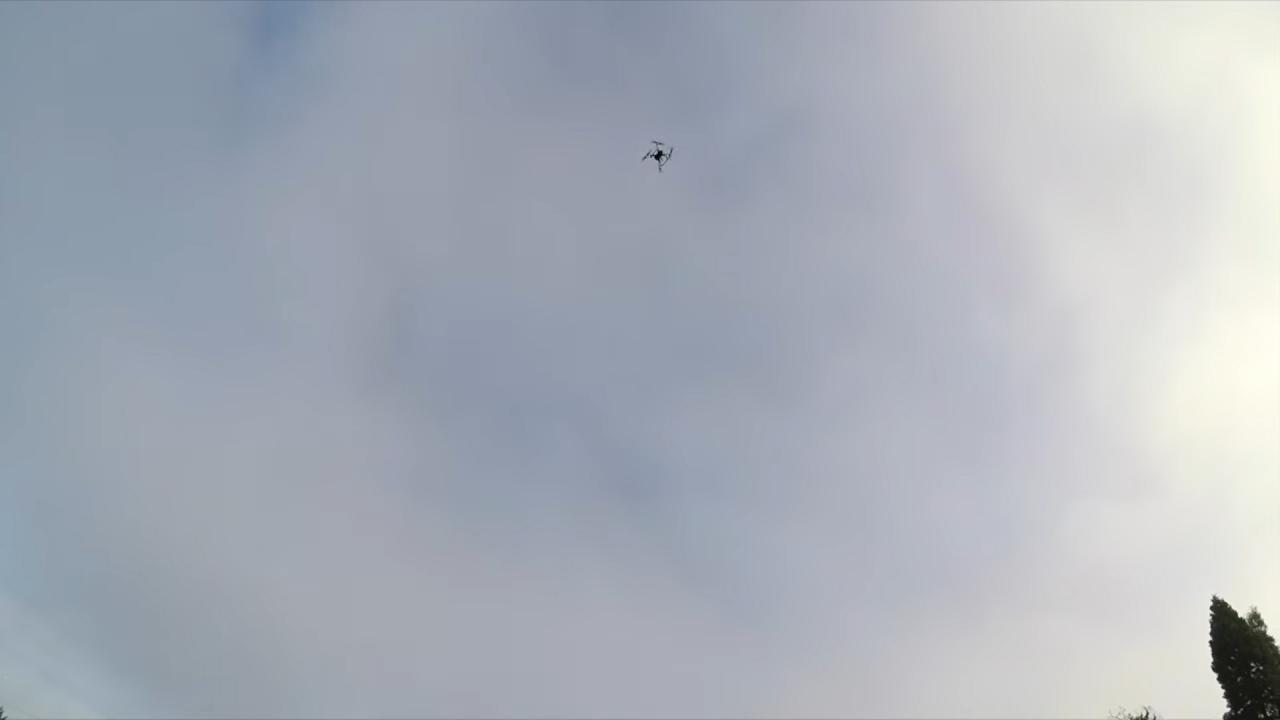Drone: (637, 134, 684, 180)
